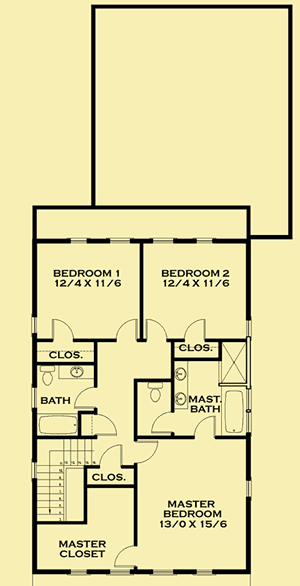door: (45, 315, 75, 345), (132, 435, 161, 466), (109, 538, 138, 569), (178, 319, 211, 345), (190, 413, 219, 442), (72, 383, 102, 411), (98, 441, 128, 469), (150, 408, 178, 436), (114, 315, 140, 345), (91, 411, 120, 437), (142, 317, 170, 343)
large sink: (144, 379, 167, 403), (39, 364, 57, 389)
small sink: (172, 361, 191, 410), (56, 363, 102, 382)
stairs: (35, 437, 97, 528)
tub: (222, 382, 249, 438), (37, 410, 80, 439)
windows: (188, 564, 218, 579), (26, 381, 41, 410), (145, 566, 178, 579), (150, 235, 178, 250), (65, 233, 91, 248), (241, 476, 256, 502), (195, 234, 219, 250), (64, 567, 96, 579), (102, 565, 132, 577), (29, 310, 42, 337), (104, 235, 132, 246), (27, 458, 39, 481)
